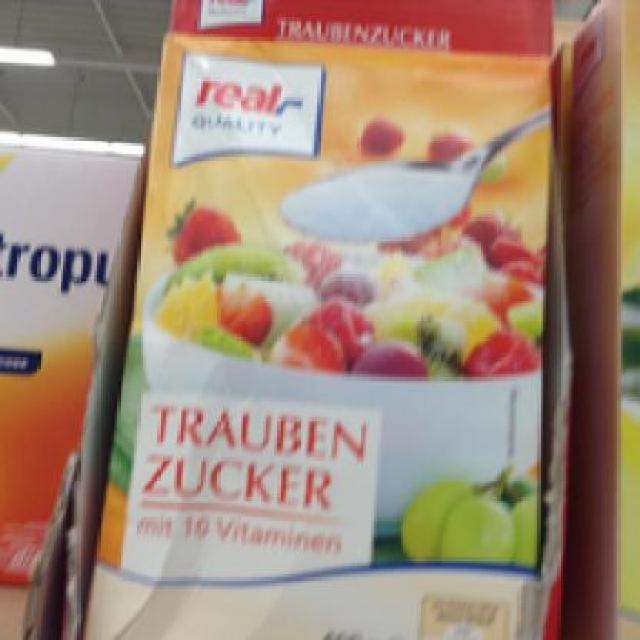Sugar: (77, 2, 550, 638)
